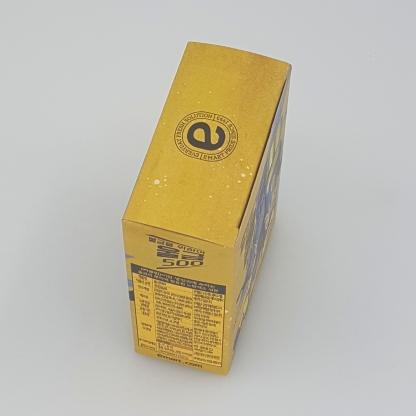----500100ML_2-200ML: (121, 41, 292, 376)
